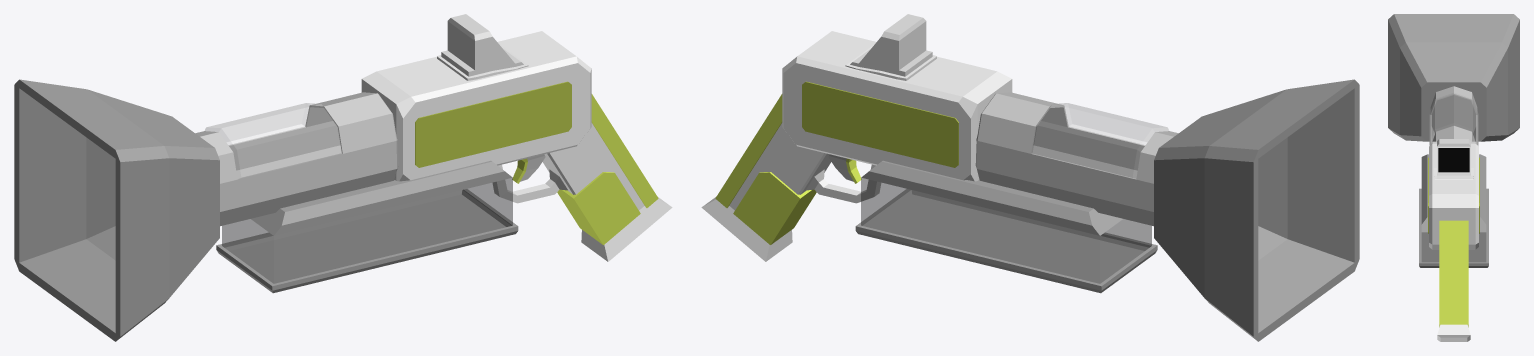
The model's file is Level1Textured.fbx.
The picture shows the model from 3 angles, left to right: view 1: azimuth 30°, elevation 25°; view 2: azimuth 150°, elevation 25°; view 3: azimuth 270°, elevation 25°; orthographic projection. The views are drawn at different scales.
Parts seen in each view (by area): view 1: Nozzle, FanModule, PlaqueContainer, Tube, PlaqueContainerLid, GlassSection, Handle, RubberPad2, StatsModule, RubberPad, TriggerRing, Trigger; view 2: Nozzle, FanModule, PlaqueContainer, Tube, PlaqueContainerLid, GlassSection, Handle, RubberPad2, StatsModule, RubberPad, TriggerRing, Trigger; view 3: Nozzle, FanModule, RubberPad, PlaqueContainer, GlassSection, PlaqueContainerLid, Tube, StatScreen, StatsModule, Handle.
Boxes of the visible parts, <box> form: Nozzle: <box>14,79,219,341</box>; FanModule: <box>361,31,591,181</box>; PlaqueContainer: <box>222,160,512,283</box>; Tube: <box>195,92,398,226</box>; PlaqueContainerLid: <box>216,189,518,293</box>; GlassSection: <box>205,103,342,178</box>; Handle: <box>542,123,672,261</box>; RubberPad2: <box>557,172,640,244</box>; StatsModule: <box>437,14,528,80</box>; RubberPad: <box>591,94,658,207</box>; TriggerRing: <box>492,164,567,203</box>; Trigger: <box>512,154,545,183</box>; Nozzle: <box>1154,79,1359,341</box>; FanModule: <box>782,31,1012,181</box>; PlaqueContainer: <box>861,160,1151,283</box>; Tube: <box>975,92,1178,226</box>; PlaqueContainerLid: <box>855,189,1157,293</box>; GlassSection: <box>1031,103,1168,178</box>; Handle: <box>701,123,831,261</box>; RubberPad2: <box>733,172,816,244</box>; StatsModule: <box>845,14,936,80</box>; RubberPad: <box>715,94,782,207</box>; TriggerRing: <box>806,164,881,203</box>; Trigger: <box>828,154,861,183</box>; Nozzle: <box>1388,14,1519,141</box>; FanModule: <box>1428,141,1479,249</box>; RubberPad: <box>1439,220,1468,325</box>; PlaqueContainer: <box>1421,154,1486,261</box>; GlassSection: <box>1429,93,1478,144</box>; PlaqueContainerLid: <box>1419,188,1488,267</box>; Tube: <box>1429,86,1478,145</box>; StatScreen: <box>1438,148,1469,172</box>; StatsModule: <box>1434,139,1473,179</box>; Handle: <box>1437,324,1470,341</box>.
Size of the model in its own units: 3.74 by 1.16 by 1.62.
